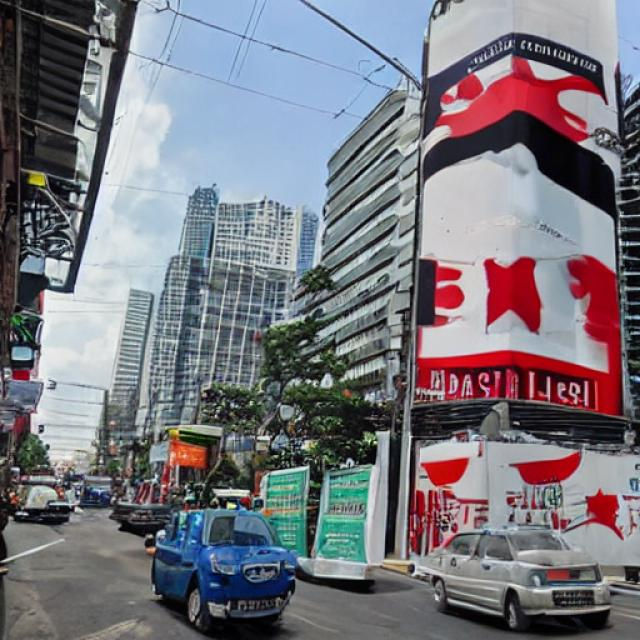Billboard: (411, 0, 628, 429)
